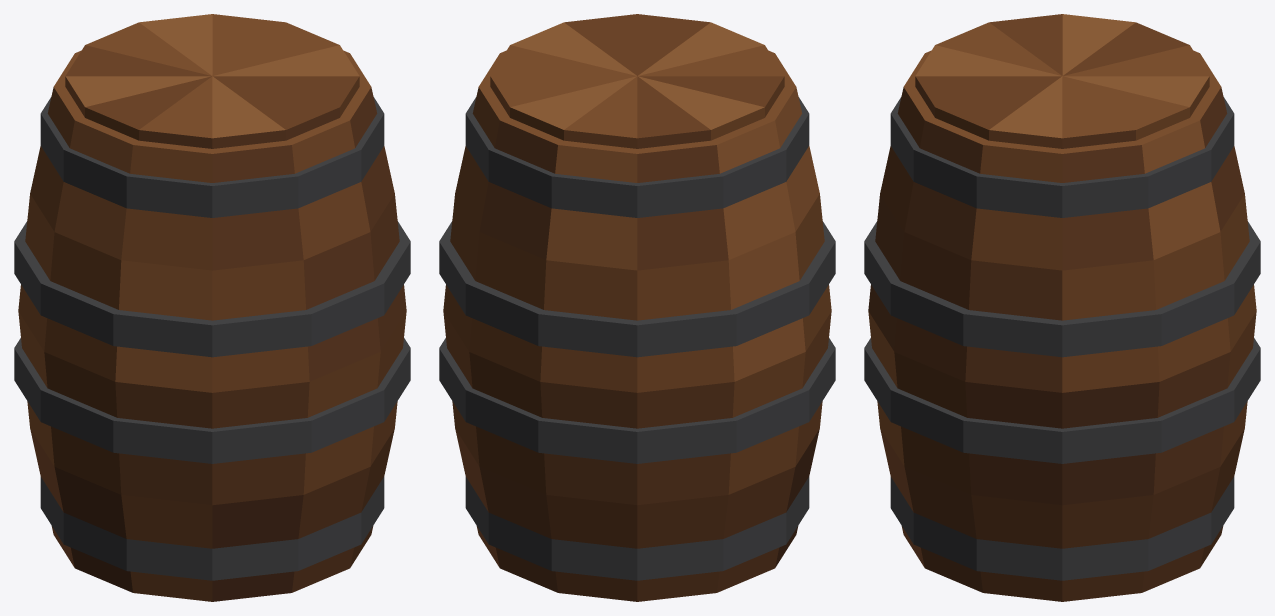
File: SM_BARREL_01.fbx
3 views of the same model, side by side, from view 1: azimuth 30°, elevation 25°; view 2: azimuth 150°, elevation 25°; view 3: azimuth 270°, elevation 25° (orthographic).
Visible parts, largest first — view 1: BARREL_01; view 2: BARREL_01; view 3: BARREL_01.
Part boxes in pixels (x1=…): BARREL_01: x1=14, y1=14, x2=410, y2=601; BARREL_01: x1=439, y1=14, x2=835, y2=601; BARREL_01: x1=864, y1=14, x2=1260, y2=601.
Bounding box in the file's own units: 0.674 × 0.674 × 0.86.
